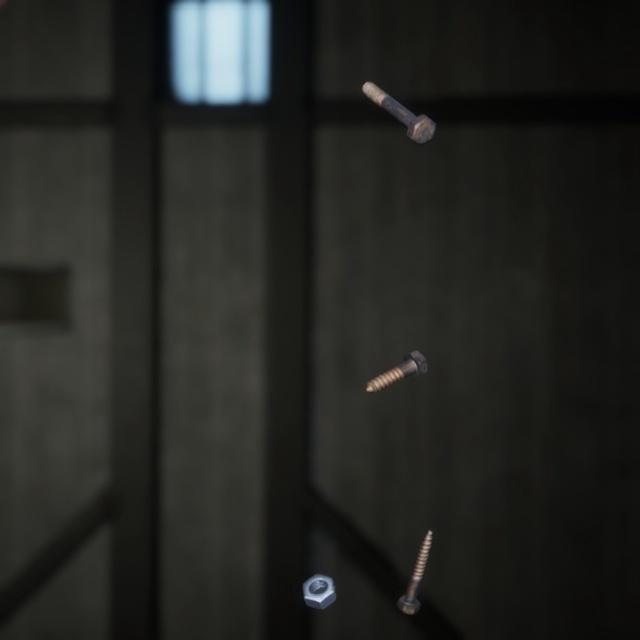bolt: (357, 66, 440, 138), (392, 503, 436, 597), (361, 327, 432, 380)
nut: (300, 546, 342, 590)
